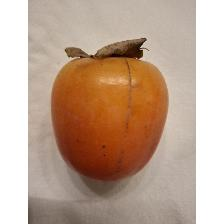Kaki: (47, 33, 170, 185)
